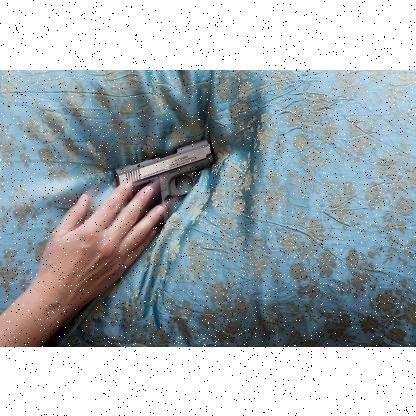gun: (113, 140, 214, 228)
